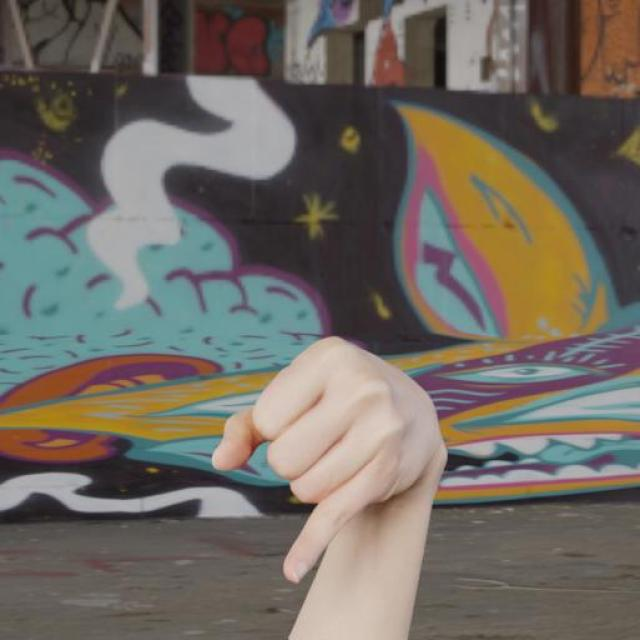J: (209, 329, 456, 583)
